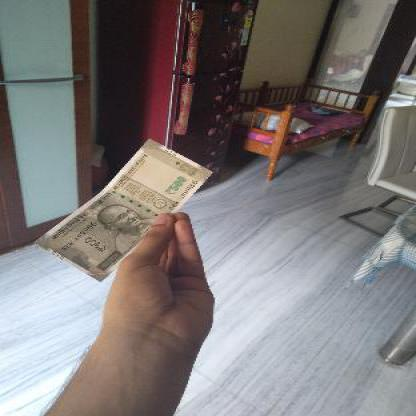New500Front: (32, 142, 212, 282)
